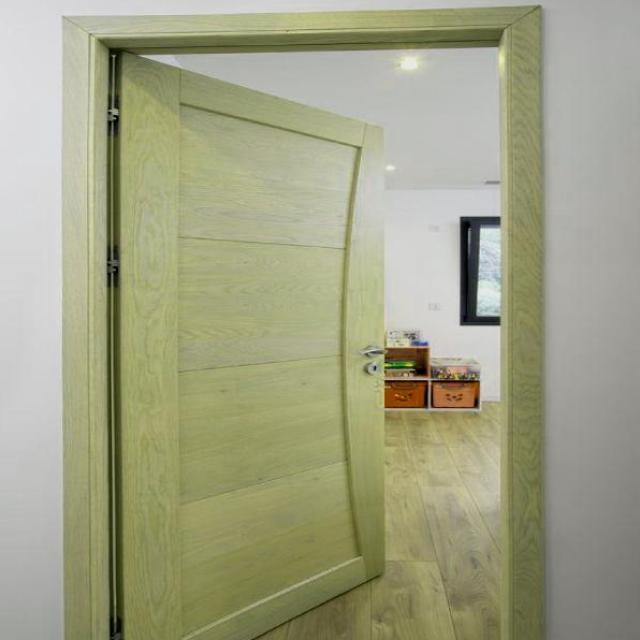door: (108, 49, 387, 638)
